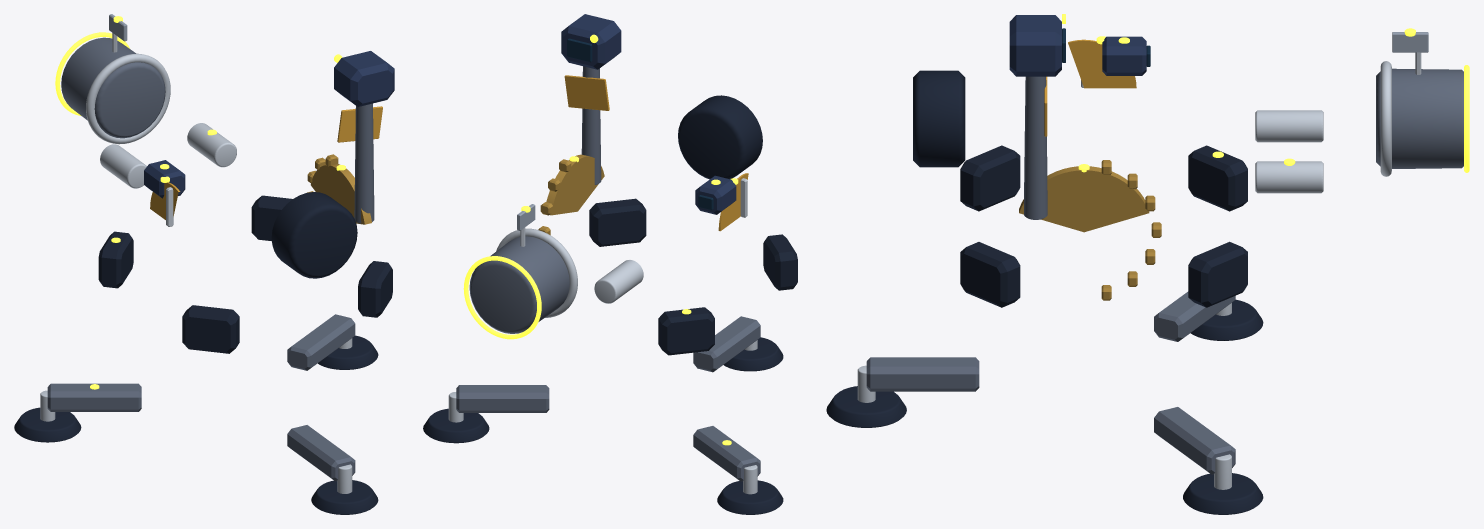
The model's file is tower_nova_range_s10.glb.
3 views of the same model, side by side, from view 1: azimuth 30°, elevation 25°; view 2: azimuth 150°, elevation 25°; view 3: azimuth 270°, elevation 25° (orthographic). The views are drawn at different scales.
Visible parts, largest first — view 1: nova_tube_extension, nova_counterweight, nova_outrigger_arm0, nova_spotter_head, nova_ballast3, nova_spotter_mast, nova_outrigger_arm1, nova_outrigger_arm2, nova_tube_collar, nova_outrigger_pad2, nova_outrigger_pad0, nova_ballast2 (+10 smaller); view 2: nova_tube_extension, nova_counterweight, nova_outrigger_arm1, nova_ballast2, nova_ballast0, nova_spotter_head, nova_arc_gear, nova_outrigger_arm2, nova_outrigger_arm0, nova_outrigger_pad0, nova_ballast3, nova_outrigger_pad1 (+9 smaller); view 3: nova_tube_extension, nova_counterweight, nova_arc_gear, nova_outrigger_arm2, nova_spotter_mast, nova_spotter_head, nova_ballast3, nova_ballast2, nova_ballast1, nova_ballast0, nova_outrigger_arm1, nova_outrigger_pad1 (+9 smaller).
Part boxes in pixels (x1,y1,x2,y2): nova_tube_extension: (61, 37, 165, 138); nova_counterweight: (271, 192, 357, 278); nova_outrigger_arm0: (47, 383, 141, 411); nova_spotter_head: (334, 51, 394, 106); nova_ballast3: (182, 305, 239, 353); nova_spotter_mast: (354, 103, 374, 223); nova_outrigger_arm1: (287, 314, 355, 370); nova_outrigger_arm2: (287, 425, 355, 481); nova_tube_collar: (86, 53, 170, 144); nova_outrigger_pad2: (311, 480, 378, 514); nova_outrigger_pad0: (14, 407, 81, 442); nova_ballast2: (358, 261, 392, 317); nova_tube_extension: (469, 236, 569, 333); nova_counterweight: (678, 95, 762, 179); nova_outrigger_arm1: (456, 385, 549, 412); nova_ballast2: (589, 198, 646, 246); nova_ballast0: (658, 307, 714, 355); nova_spotter_head: (561, 14, 621, 69); nova_arc_gear: (546, 154, 604, 215); nova_outrigger_arm2: (693, 316, 760, 372); nova_outrigger_arm0: (693, 426, 760, 481); nova_outrigger_pad0: (717, 480, 783, 514); nova_ballast3: (763, 234, 797, 290); nova_outrigger_pad1: (423, 408, 489, 443); nova_tube_extension: (1376, 68, 1463, 168); nova_counterweight: (913, 70, 965, 167); nova_arc_gear: (1019, 166, 1149, 232); nova_outrigger_arm2: (866, 357, 979, 391); nova_spotter_mast: (1024, 76, 1047, 219); nova_spotter_head: (1009, 15, 1061, 76); nova_ballast3: (960, 145, 1020, 211); nova_ballast2: (960, 242, 1020, 307); nova_ballast1: (1188, 241, 1247, 307); nova_ballast0: (1188, 145, 1247, 211); nova_outrigger_arm1: (1154, 407, 1235, 474); nova_outrigger_pad1: (1183, 473, 1263, 514).
Size of the model in its own units: 2.44 by 2.42 by 3.19.
